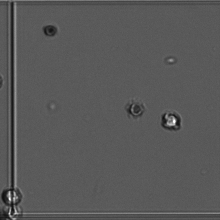Dead Cell: (126, 96, 150, 120), (40, 20, 63, 43)
Living Cell: (158, 107, 187, 136), (1, 185, 25, 209), (4, 200, 23, 220)
